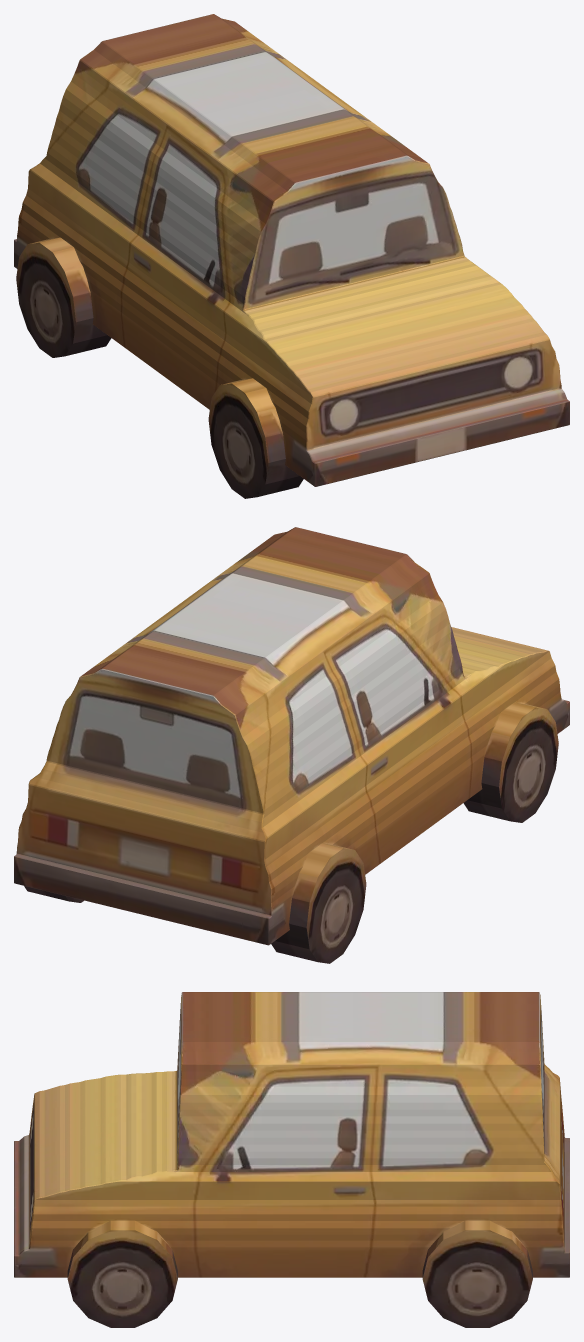
File: car_c.glb
3 views of the same model, one above another, from view 1: azimuth 30°, elevation 25°; view 2: azimuth 150°, elevation 25°; view 3: azimuth 270°, elevation 25° (orthographic). The views are drawn at different scales.
Parts seen in each view (by area): view 1: car_c; view 2: car_c; view 3: car_c.
Boxes of the visible parts, x1=… form: car_c: x1=14, y1=14, x2=569, y2=498; car_c: x1=14, y1=527, x2=569, y2=963; car_c: x1=14, y1=992, x2=569, y2=1327.
Size of the model in its own units: 1.82 by 1.59 by 3.27.
1 material, 1 textured.
